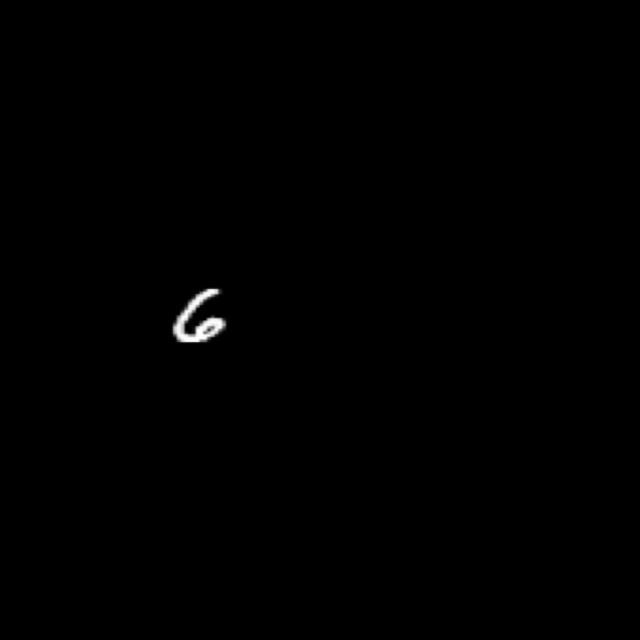six -6-: (166, 281, 238, 347)
